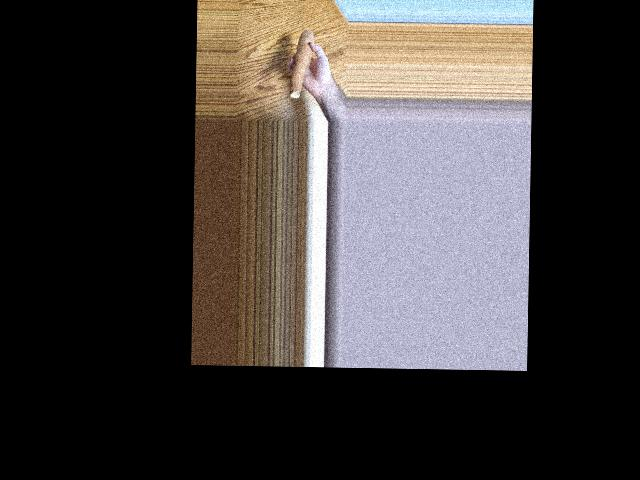sweet_potato: (291, 26, 310, 101)
